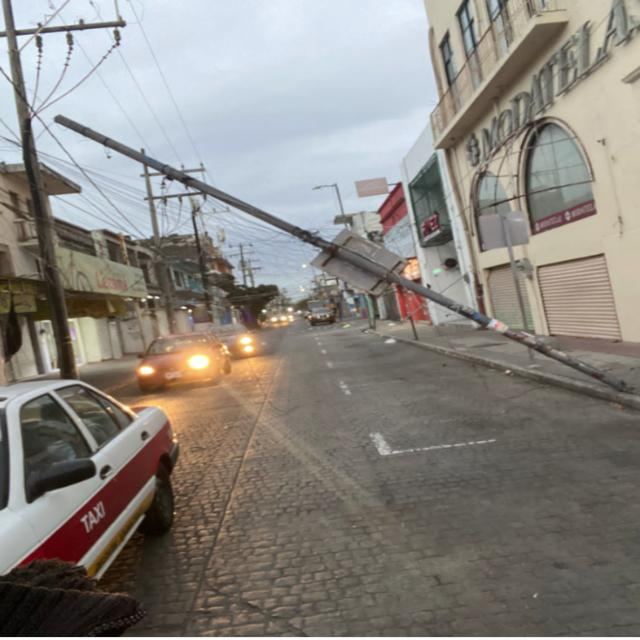Inclined Pole: (48, 112, 634, 392)
